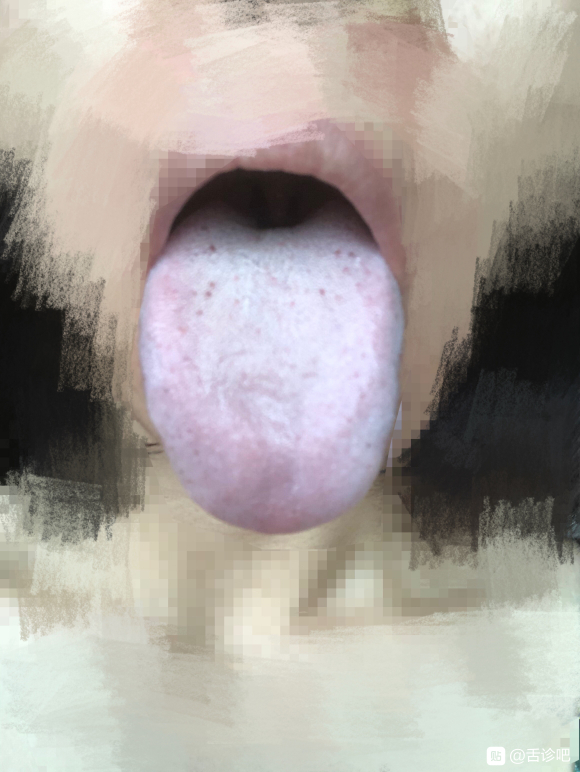baitaishe: (143, 197, 400, 535)
hongdianshe: (206, 240, 220, 258), (346, 248, 357, 263)
pangdashe: (143, 197, 400, 535)
shenquao: (211, 199, 326, 235)
